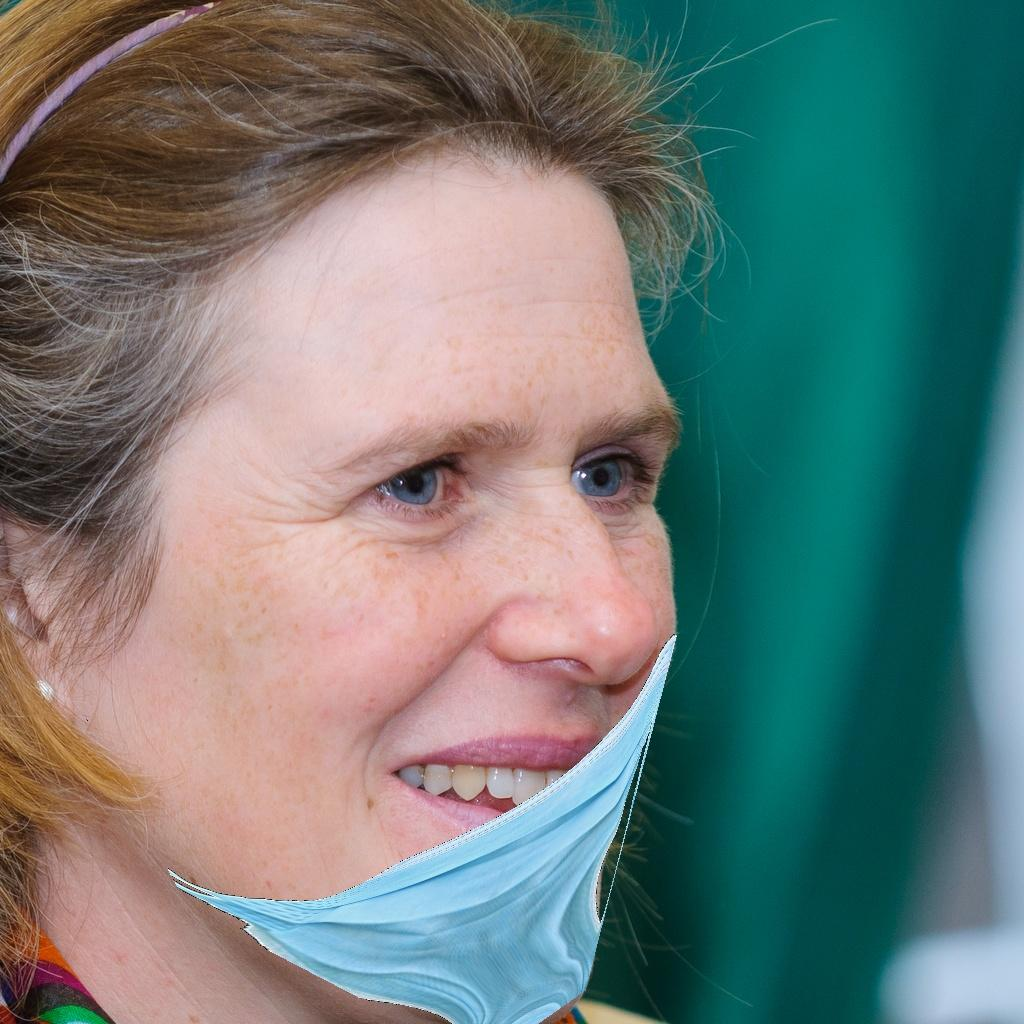Máscara Incorreta: (146, 280, 695, 1020)
